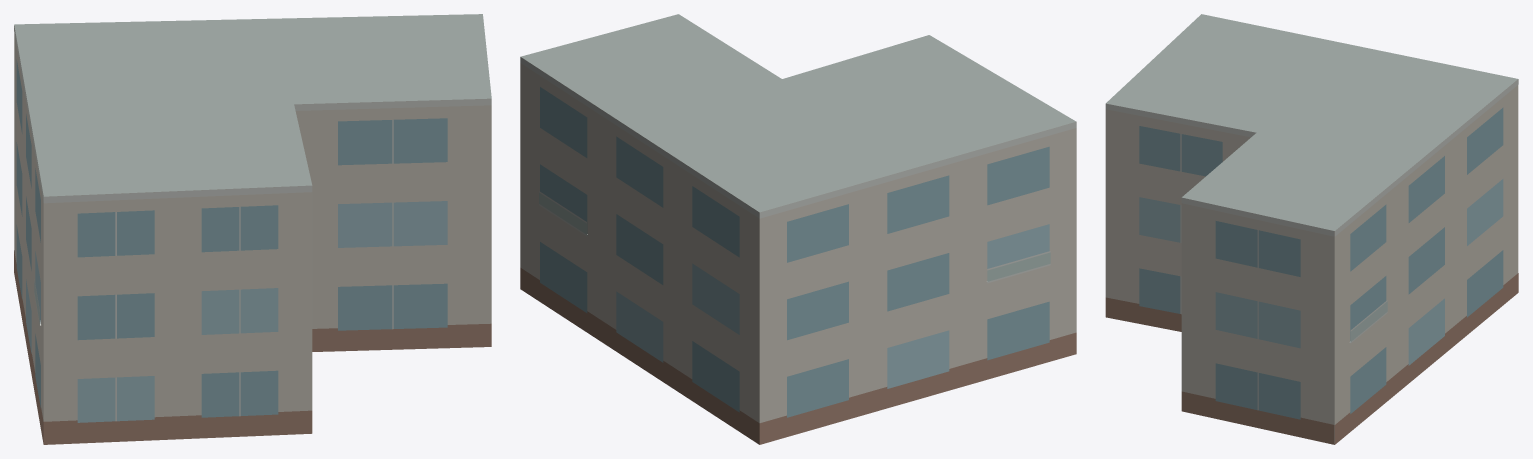
File: survey-upis-32735596.glb
The picture shows the model from 3 angles, left to right: view 1: azimuth 30°, elevation 25°; view 2: azimuth 150°, elevation 25°; view 3: azimuth 270°, elevation 25°; orthographic projection. The views are drawn at different scales.
Parts seen in each view (by area): view 1: survey-upis-32735596.tmp; view 2: survey-upis-32735596.tmp; view 3: survey-upis-32735596.tmp.
Part boxes in pixels (<box>): survey-upis-32735596.tmp: <box>14,14,491,444</box>; survey-upis-32735596.tmp: <box>520,14,1076,444</box>; survey-upis-32735596.tmp: <box>1105,14,1518,444</box>.
Size of the model in its own units: 19.94 by 9.15 by 16.03.
